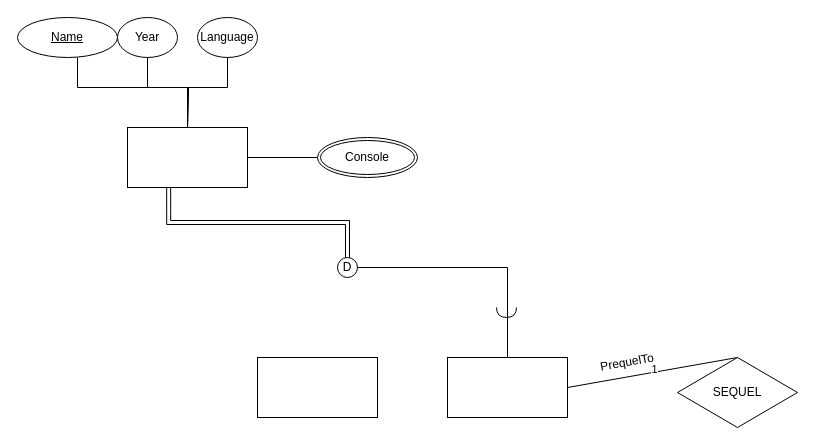
The diagram is 815 pixels wide and 445 high, and some of its shapes have lost their labels. Here are the shapes that lost their labels. From the top down, the centre of each, then its label:
At pixel 187 157: "GAME".
At pixel 317 387: "WINNABLE".
At pixel 507 387: "NON-WIN".
